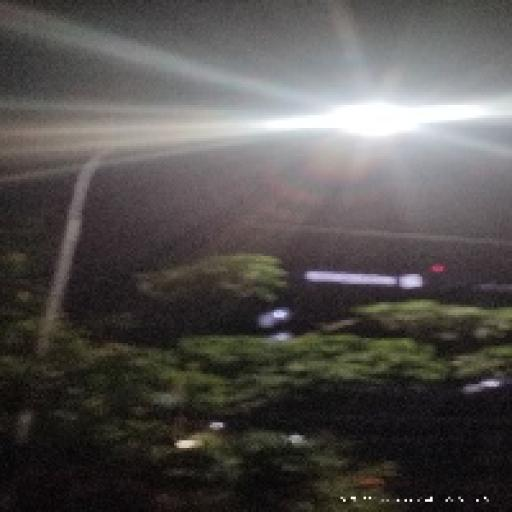Working: (291, 89, 466, 149)
